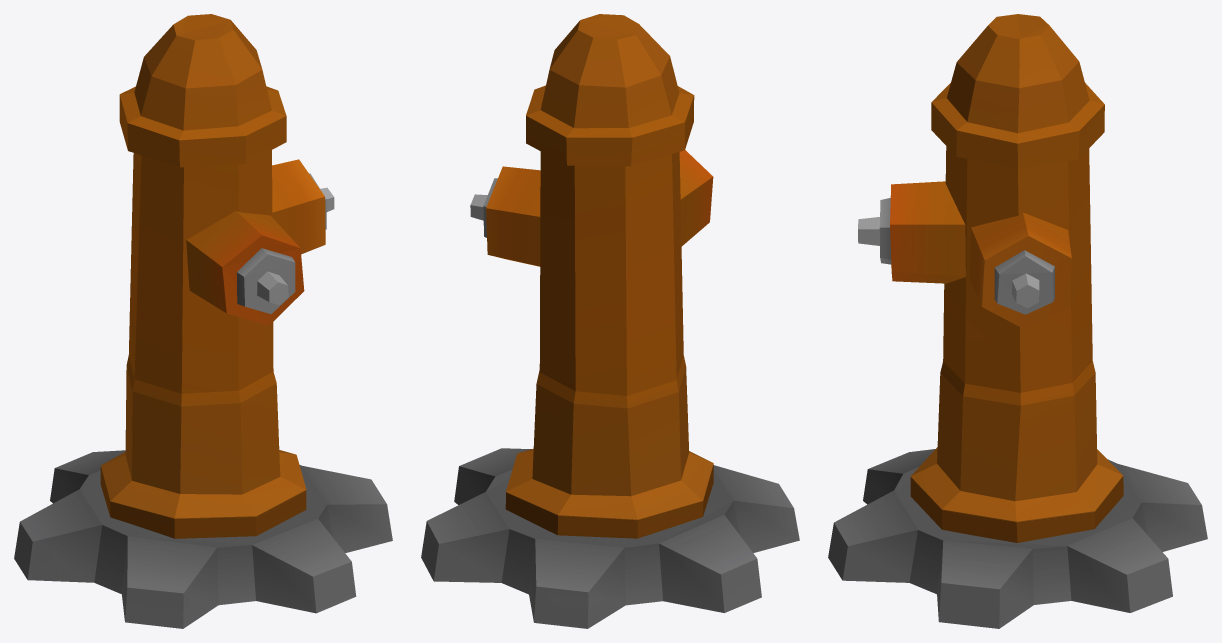
Rendered from Hidrant.glb.
3 renders of one model, left to right at view 1: azimuth 30°, elevation 25°; view 2: azimuth 150°, elevation 25°; view 3: azimuth 270°, elevation 25°, orthographic.
Visible parts, largest first — view 1: Hidrant; view 2: Hidrant; view 3: Hidrant.
Boxes of the visible parts, x1=… form: Hidrant: x1=14, y1=14, x2=392, y2=628; Hidrant: x1=421, y1=14, x2=799, y2=628; Hidrant: x1=828, y1=14, x2=1207, y2=628.
Size of what is drawn, in the model's own units: 0.7201 by 1.09 by 0.7191.
1 material, 1 textured.
